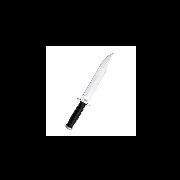k1: (76, 52, 115, 108)
